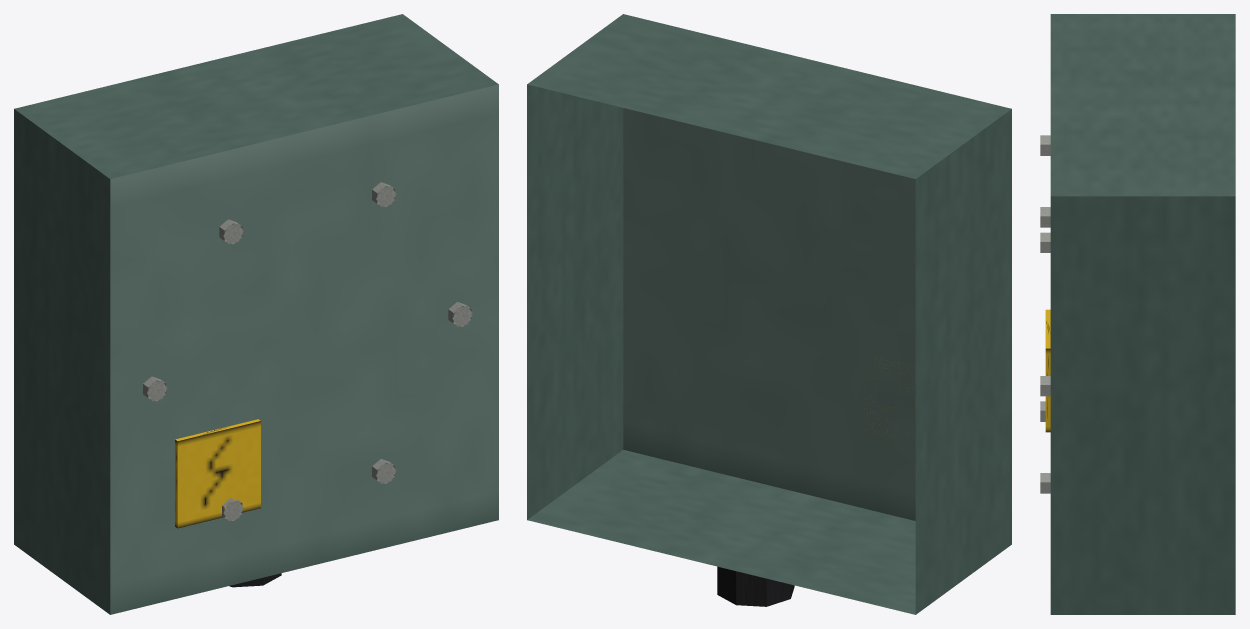
File: cell_197.obj
3 views of the same model, side by side, from view 1: azimuth 30°, elevation 25°; view 2: azimuth 150°, elevation 25°; view 3: azimuth 270°, elevation 25° (orthographic). The views are drawn at different scales.
Size of the model in its own units: 0.84 by 1 by 0.38.
